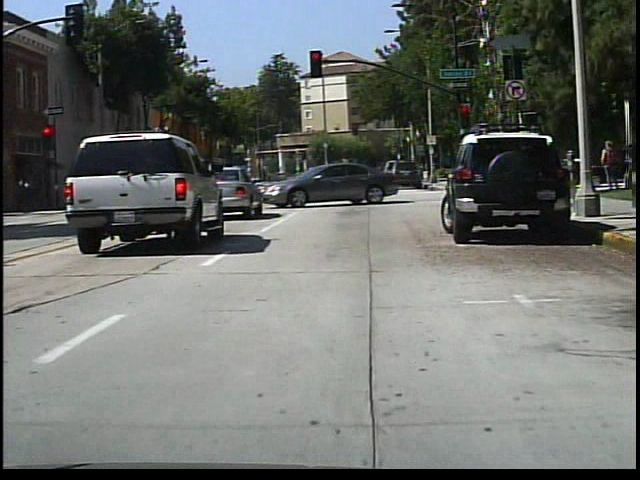person: (600, 137, 622, 192), (324, 158, 349, 200), (456, 150, 473, 187)
